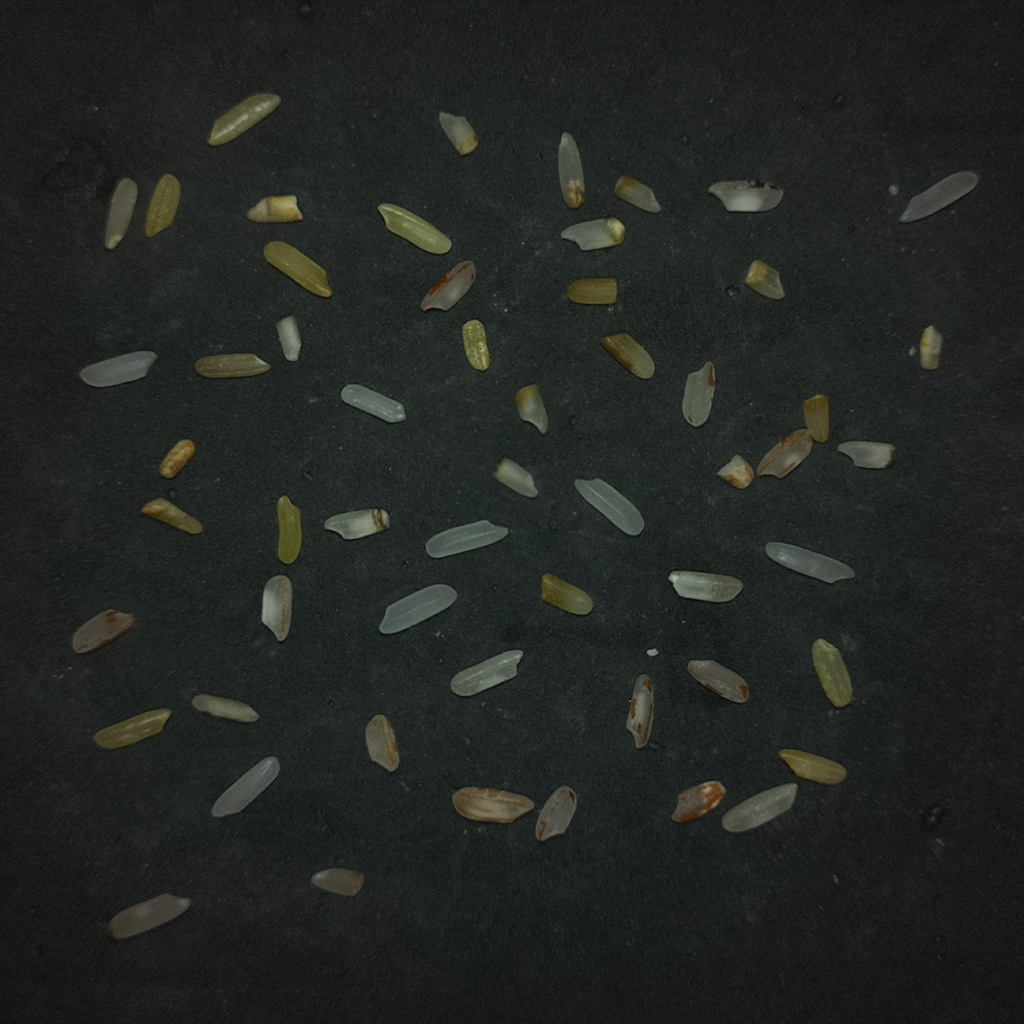broken: (668, 570, 742, 602), (560, 218, 624, 250), (261, 575, 292, 641), (194, 353, 269, 378), (493, 458, 538, 497), (837, 441, 894, 469), (462, 319, 489, 370), (567, 278, 617, 304), (276, 316, 300, 361)
damaged: (601, 333, 653, 379), (708, 180, 782, 212), (105, 179, 137, 249), (141, 498, 202, 534), (324, 508, 389, 539), (542, 574, 591, 615), (558, 133, 584, 208), (514, 384, 548, 433), (614, 176, 660, 212), (246, 194, 303, 223), (439, 111, 476, 155), (744, 260, 784, 299), (159, 439, 195, 478), (919, 325, 942, 369)
discolored: (264, 240, 332, 297), (208, 93, 280, 146), (378, 203, 451, 254), (93, 708, 171, 749), (812, 638, 851, 707), (779, 748, 846, 784), (145, 173, 180, 237), (191, 694, 259, 722), (277, 496, 301, 564), (803, 394, 829, 442)
red: (452, 787, 533, 823), (71, 609, 135, 653), (757, 428, 813, 478), (420, 261, 476, 310), (687, 660, 749, 702), (535, 786, 577, 841), (671, 780, 725, 821), (682, 362, 716, 426), (626, 674, 653, 748), (364, 715, 399, 771), (310, 867, 363, 896), (717, 454, 752, 488)
whole: (211, 757, 278, 815), (108, 893, 190, 939), (901, 171, 976, 221), (379, 584, 455, 632), (722, 783, 796, 832), (576, 478, 640, 534), (766, 543, 853, 582), (452, 651, 521, 695), (425, 520, 507, 556), (80, 350, 155, 385), (342, 384, 404, 421)
